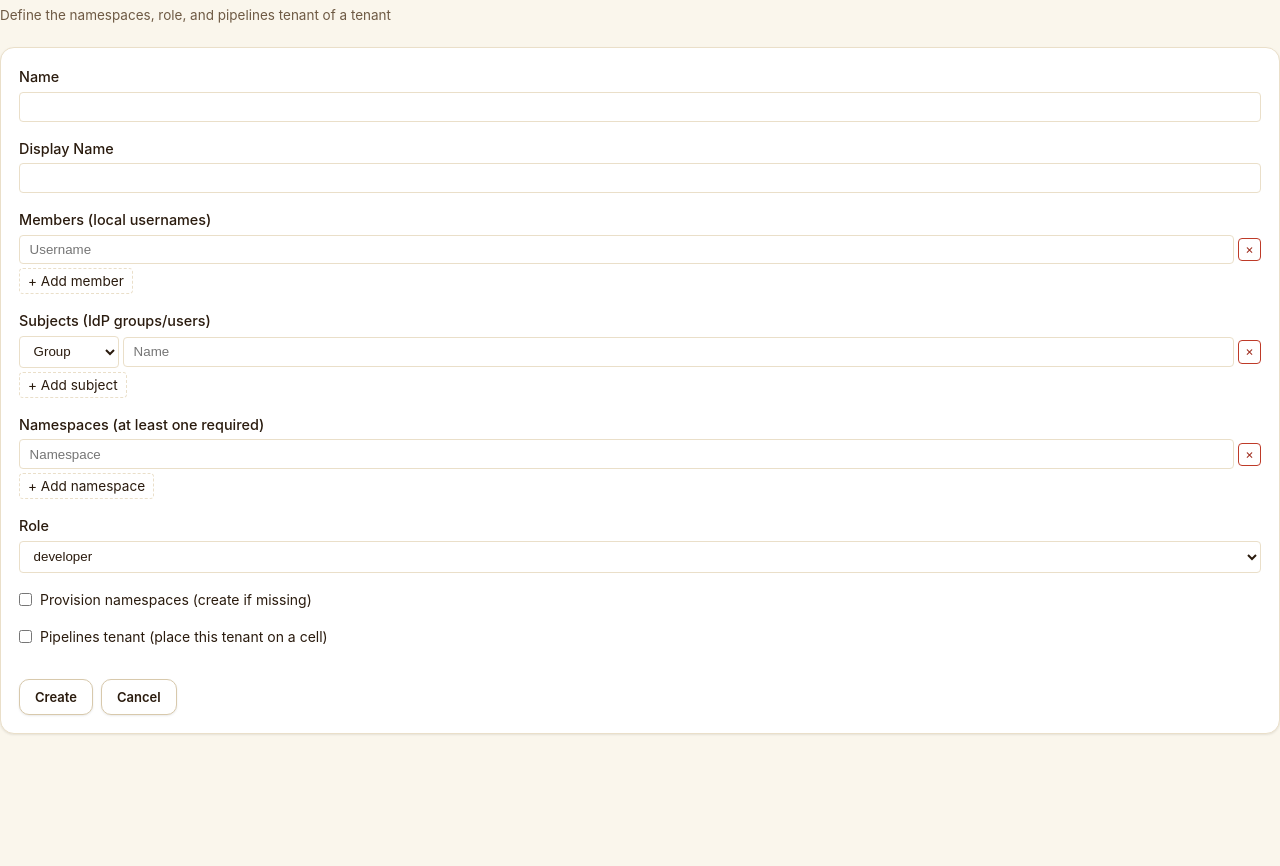
Test case: TenantForm › refuses a pipelines tenant with no version profile or agent namespace
In the 1st field: [640, 107] box [19,92,1261,122], type "payments"
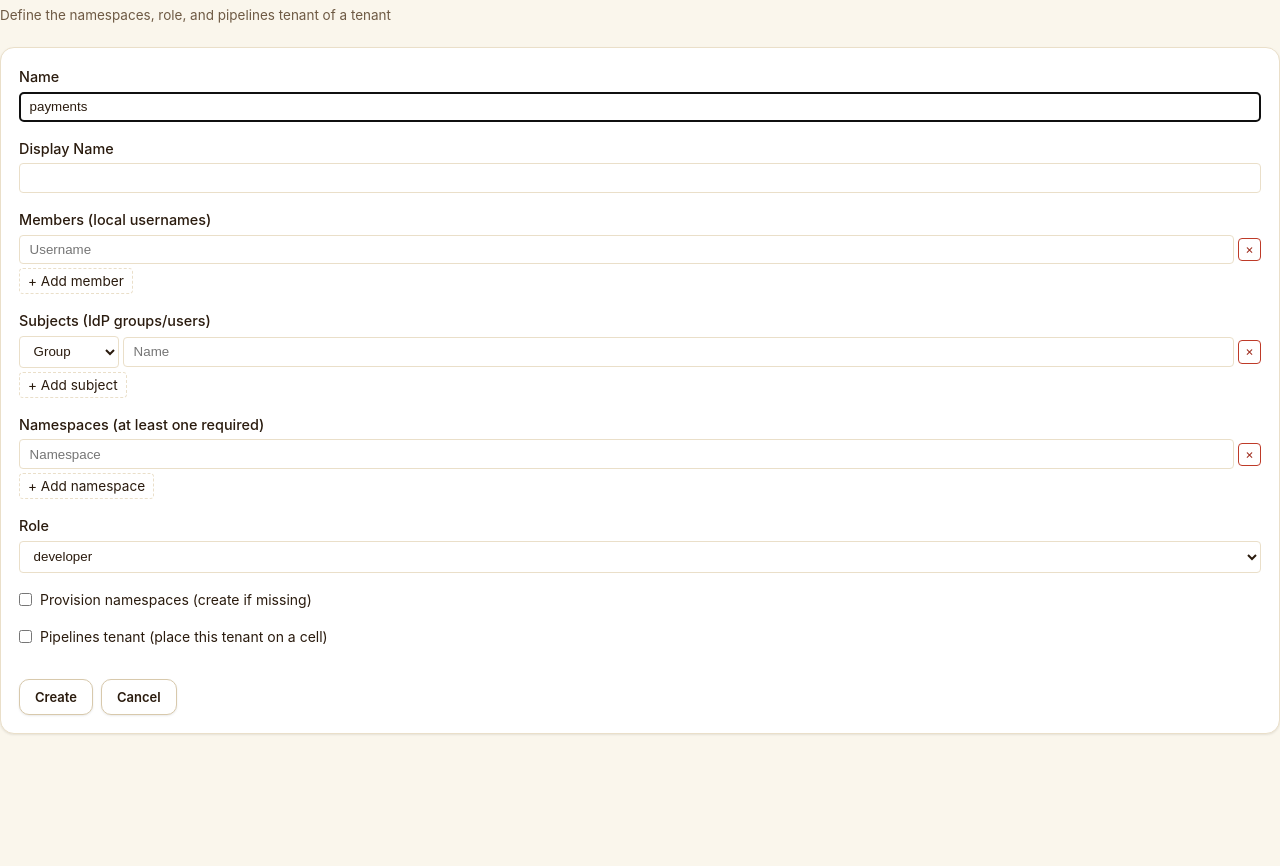
In the field with placeholder "Username": [626, 250] box [19,235,1234,264], type "alice"
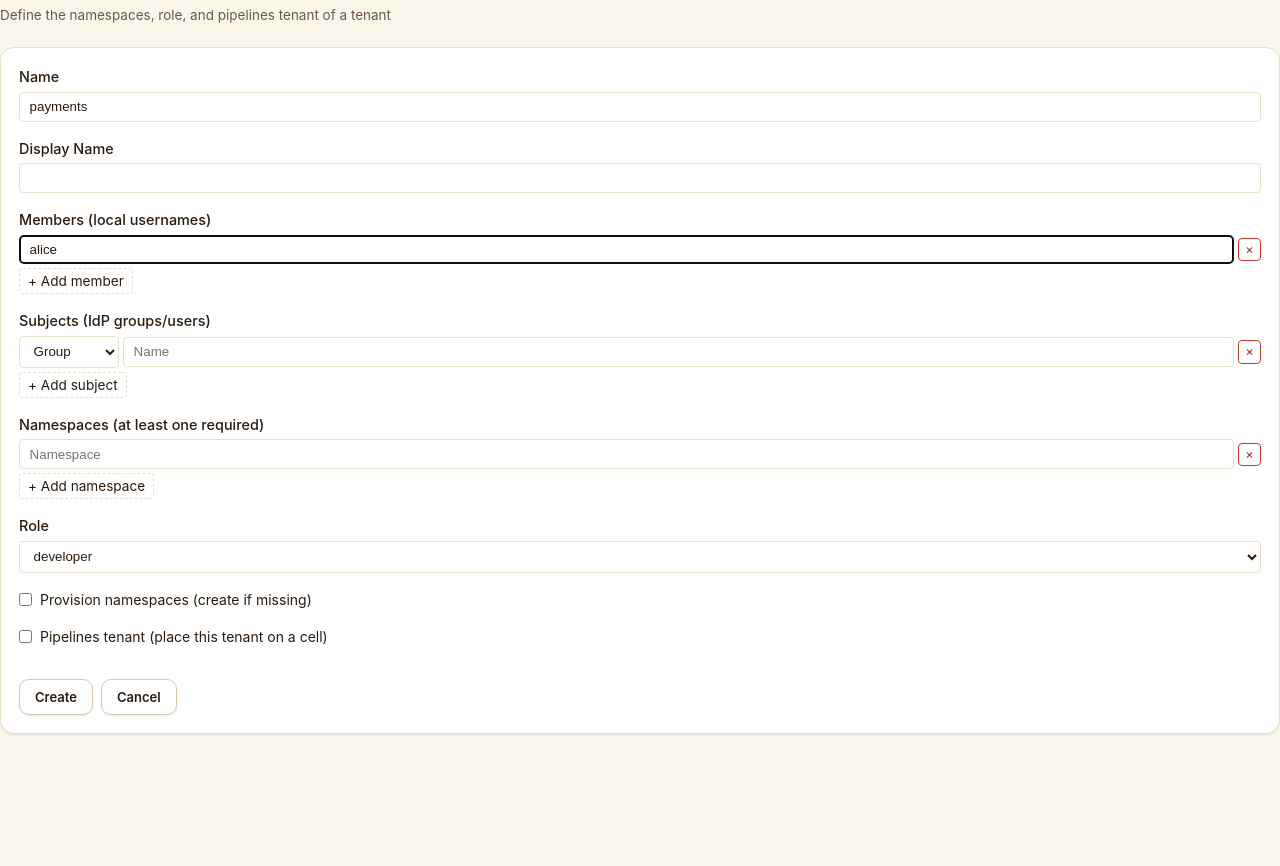
In the field with placeholder "Namespace": [626, 454] box [19,439,1234,469], type "ns1"
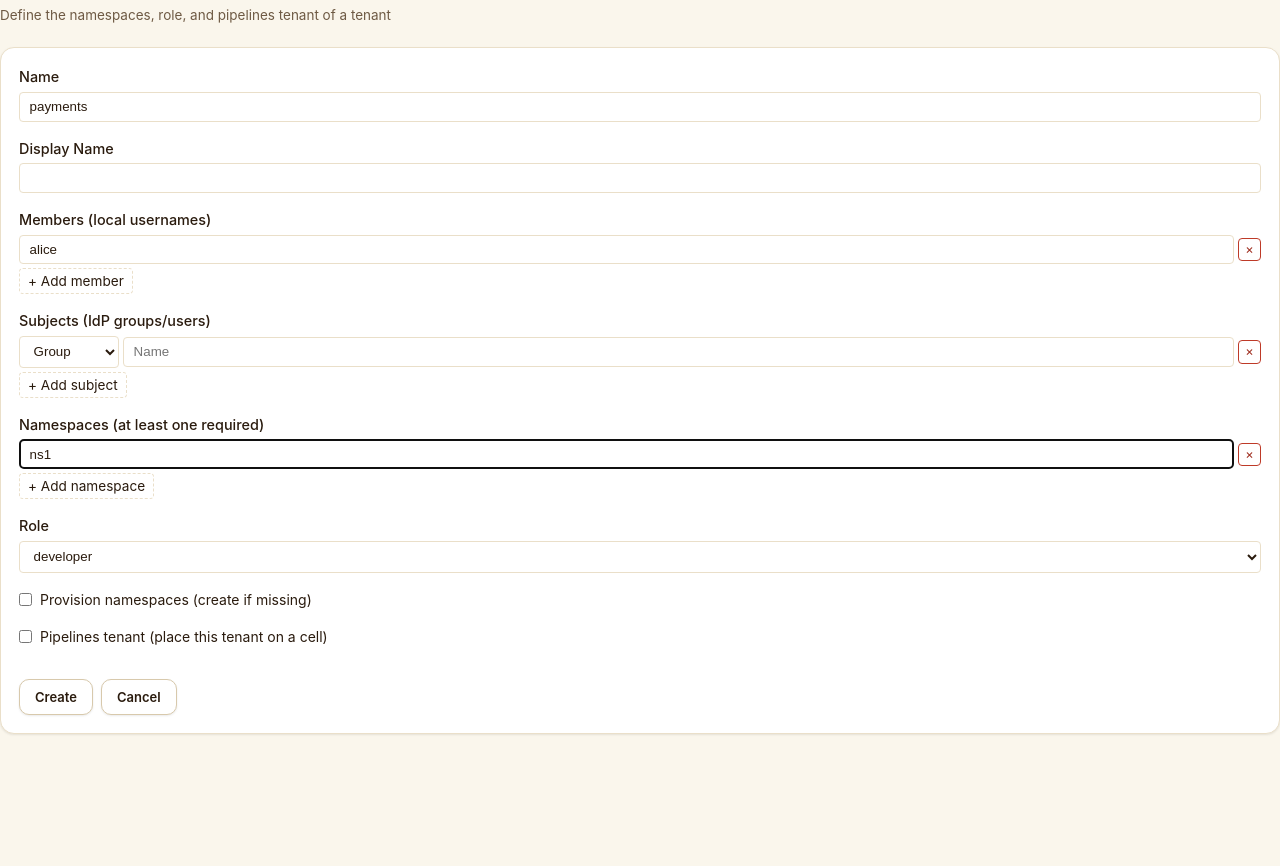
Click the checkbox labelled "Pipelines tenant (place this tenant on a cell)": [26, 636] box [19,630,32,643]
(page scrolled)
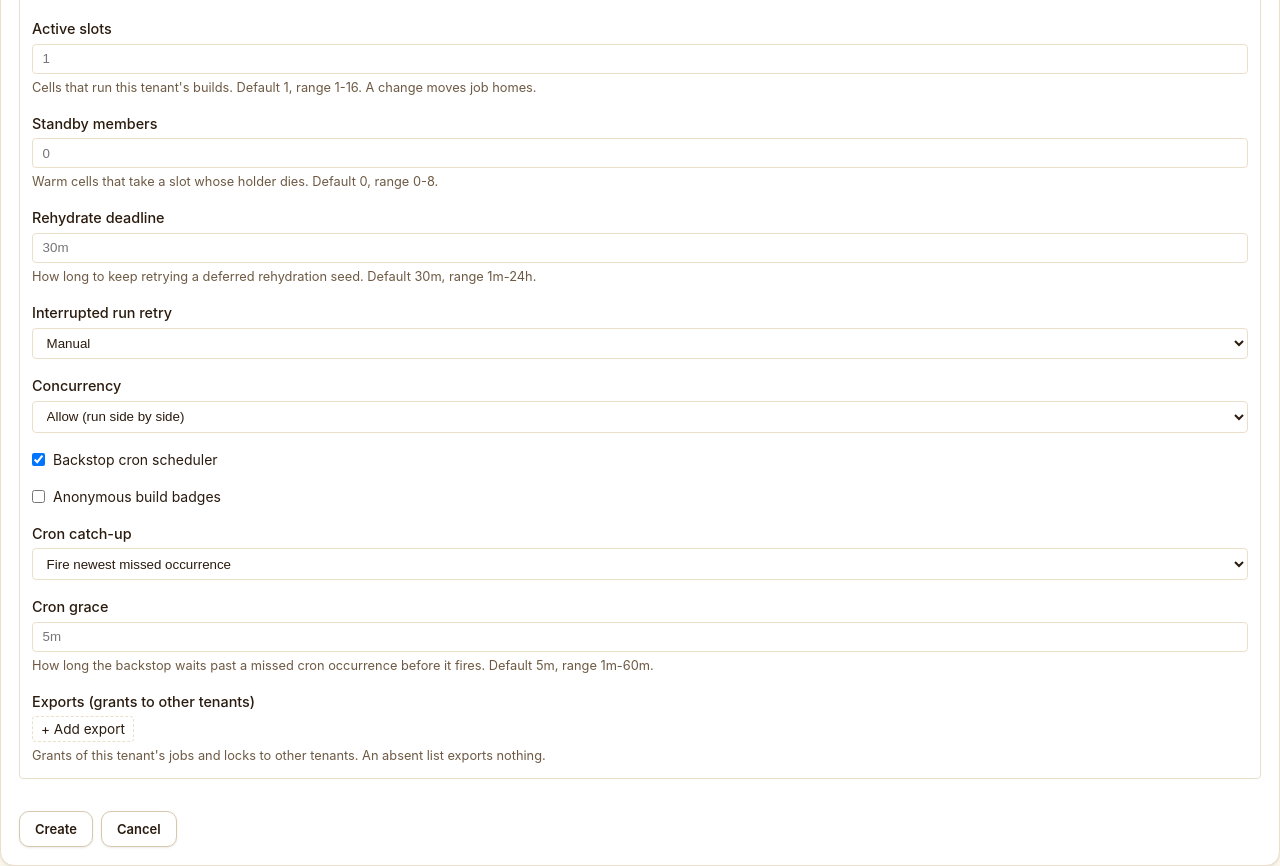
Click the button "Create": [56, 829] box [19,811,93,847]
(page scrolled)
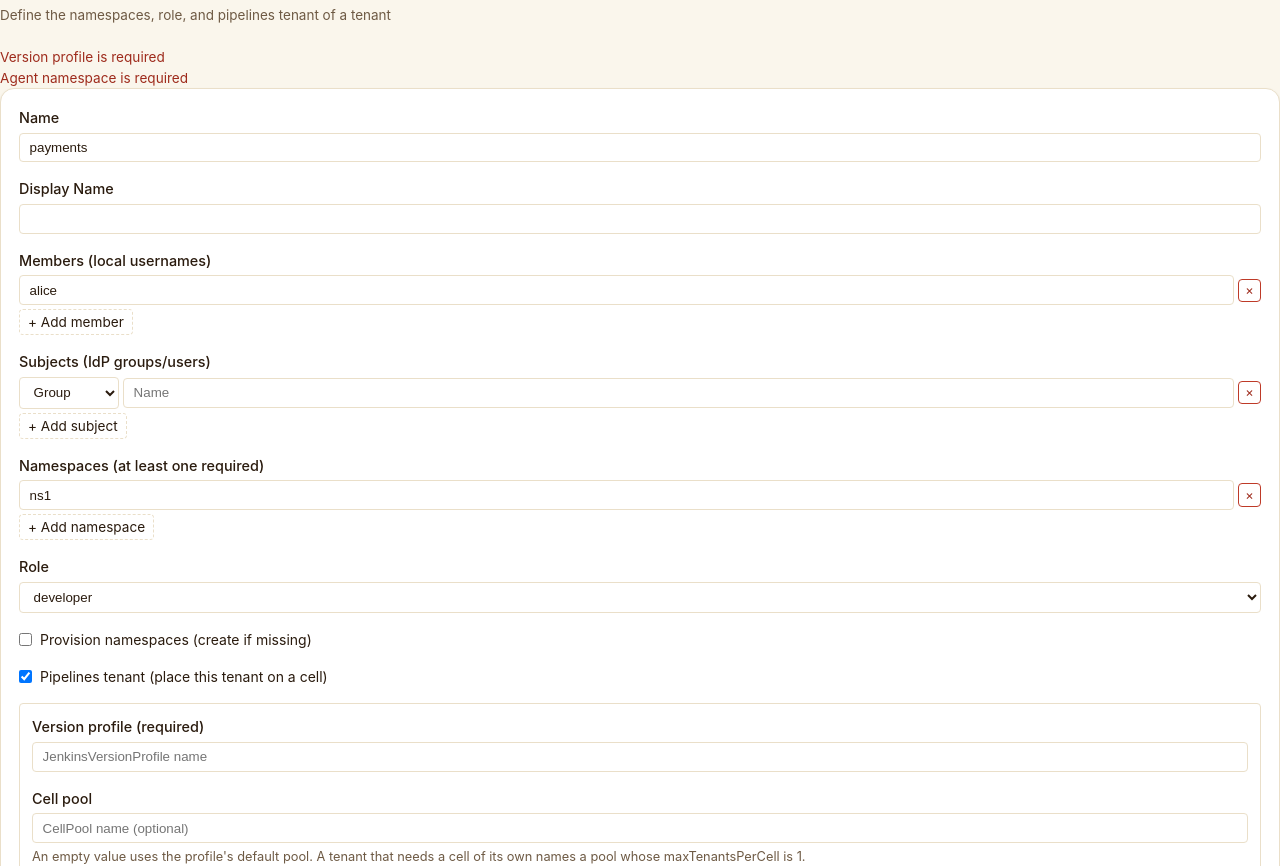
Expected: the text "Version profile is required" is shown, [0,49,165,65]
Expected: the text "Agent namespace is required" is shown, [0,70,188,86]
